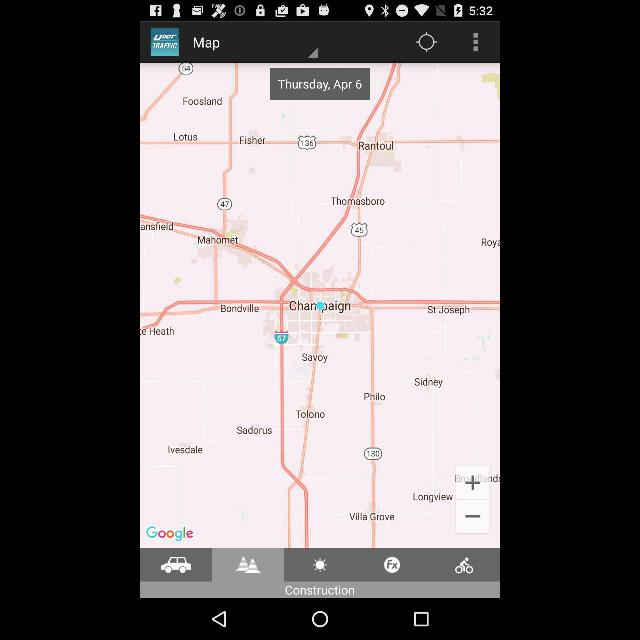icon: (159, 554, 195, 574), (232, 552, 262, 576), (308, 606, 334, 632), (206, 608, 234, 632), (409, 607, 437, 631), (413, 29, 437, 55), (304, 39, 328, 63), (453, 552, 475, 576), (381, 556, 402, 574), (310, 556, 330, 574), (470, 31, 482, 55)
image: (150, 24, 182, 56)
map: (142, 64, 500, 546)
multitab: (141, 548, 499, 598)
panel: (142, 600, 500, 638)
text: (270, 66, 370, 102), (278, 585, 362, 597), (188, 34, 226, 52)
toolbar: (140, 22, 500, 64)
uppertaskbar: (142, 2, 500, 18)
